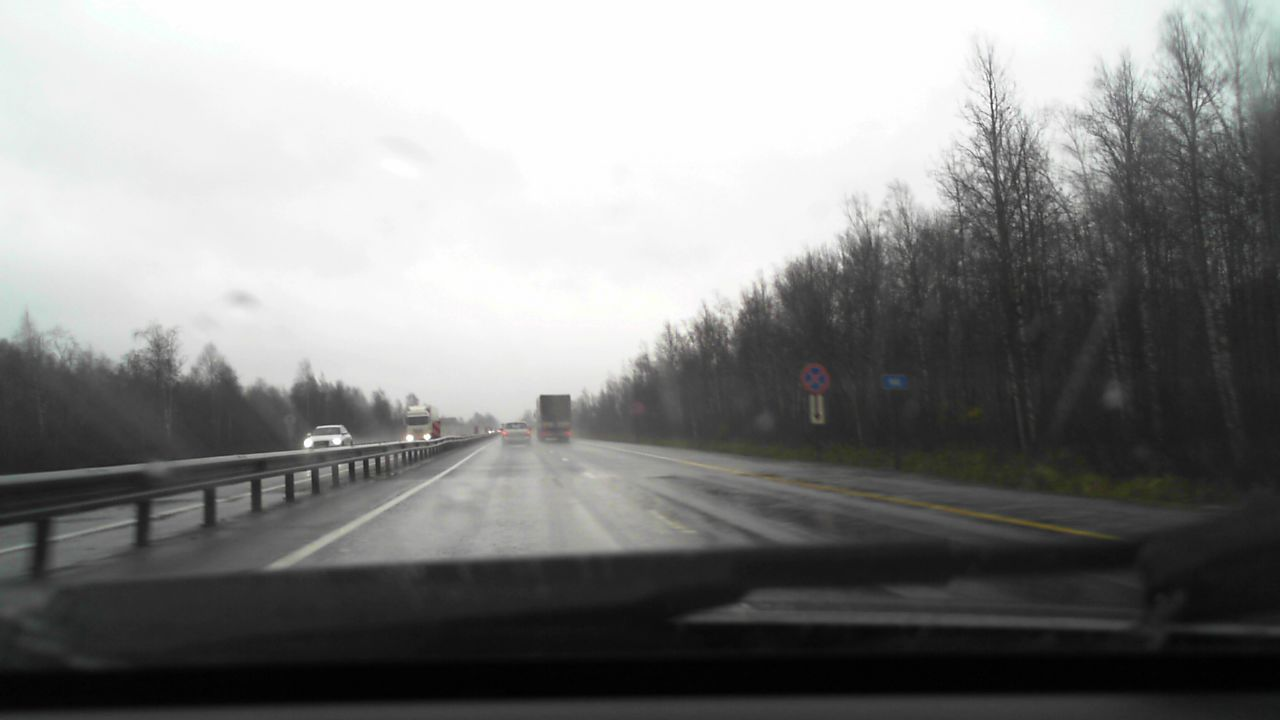No Parking: (800, 362, 829, 392)
